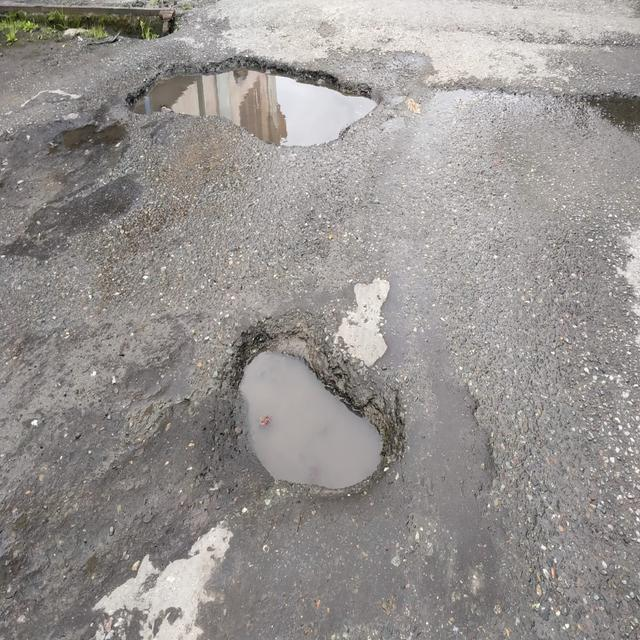Lubang: (222, 317, 410, 493), (120, 61, 387, 149)
